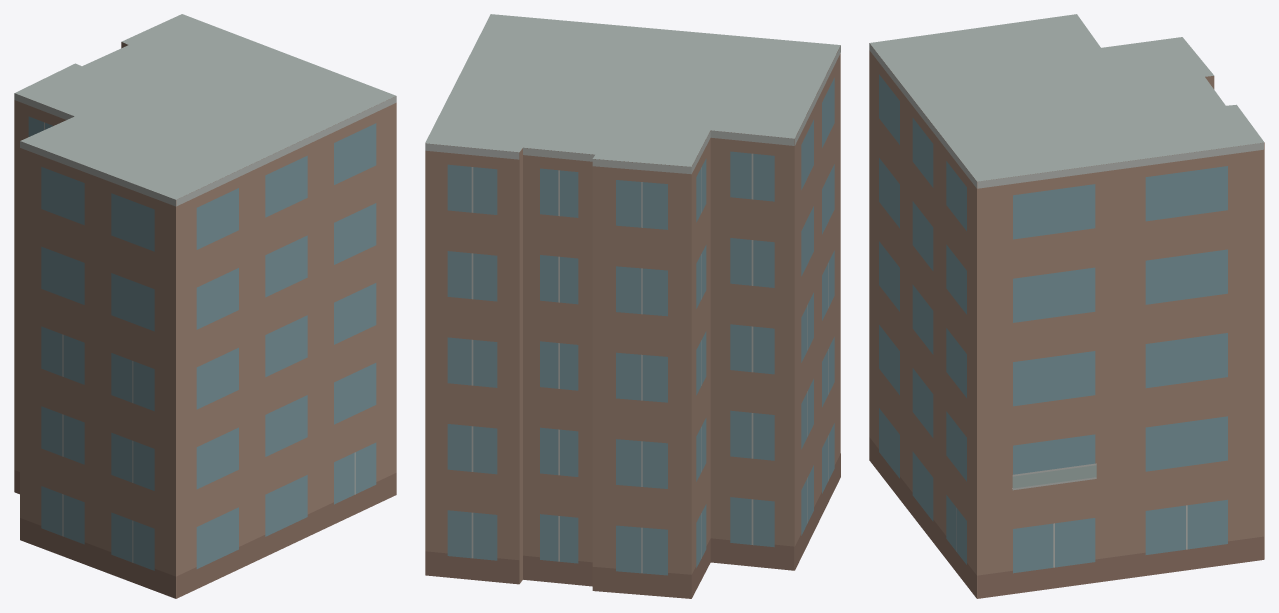
Rendered from survey-upis-32624361.glb.
3 views of the same model, side by side, from view 1: azimuth 30°, elevation 25°; view 2: azimuth 150°, elevation 25°; view 3: azimuth 270°, elevation 25° (orthographic). The views are drawn at different scales.
Parts seen in each view (by area): view 1: survey-upis-32624361.tmp; view 2: survey-upis-32624361.tmp; view 3: survey-upis-32624361.tmp.
Part boxes in pixels (x1,y1,x2,y2): survey-upis-32624361.tmp: (14, 14, 396, 598); survey-upis-32624361.tmp: (425, 14, 840, 598); survey-upis-32624361.tmp: (869, 14, 1264, 598).
Bounding box in the file's own units: 12.33 × 14.3 × 12.28.
